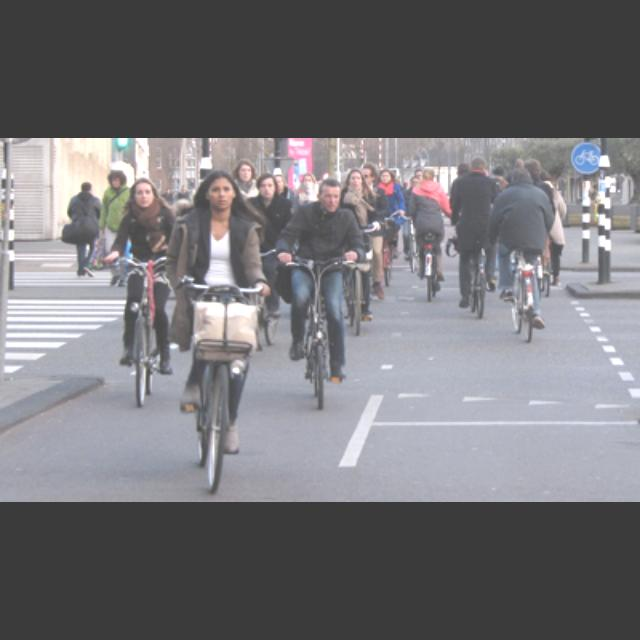Without Helmet: (197, 166, 243, 212), (312, 175, 344, 215), (128, 172, 156, 210)
